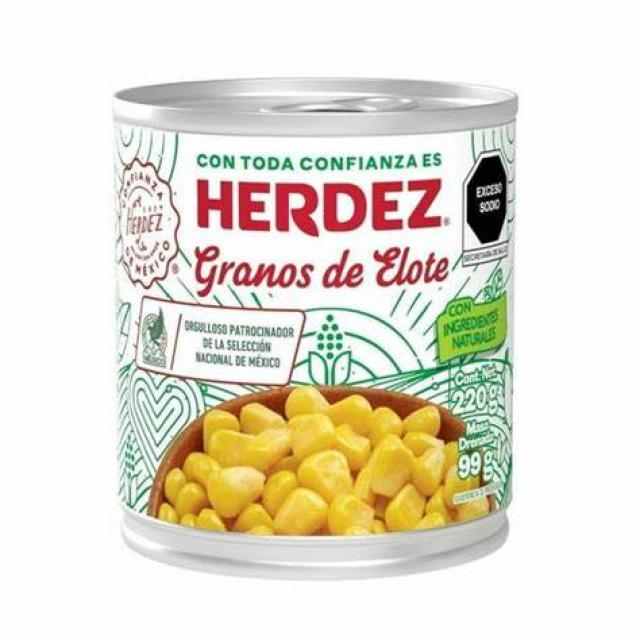Lata: (106, 67, 520, 572)
